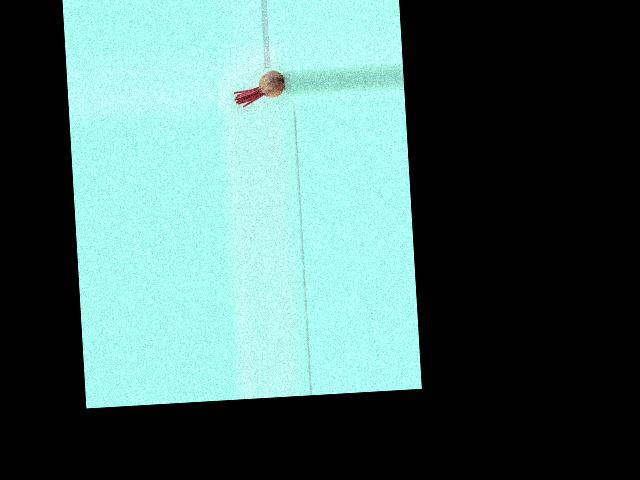beet: (233, 69, 285, 107)
